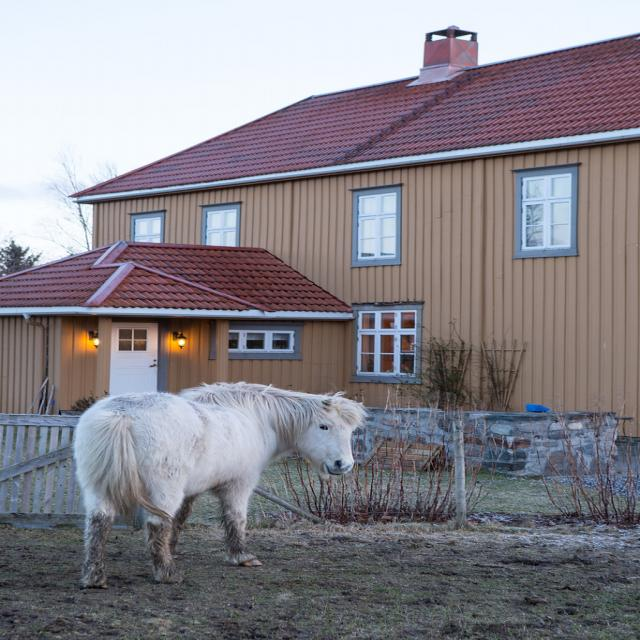Horse: (72, 379, 376, 592)
